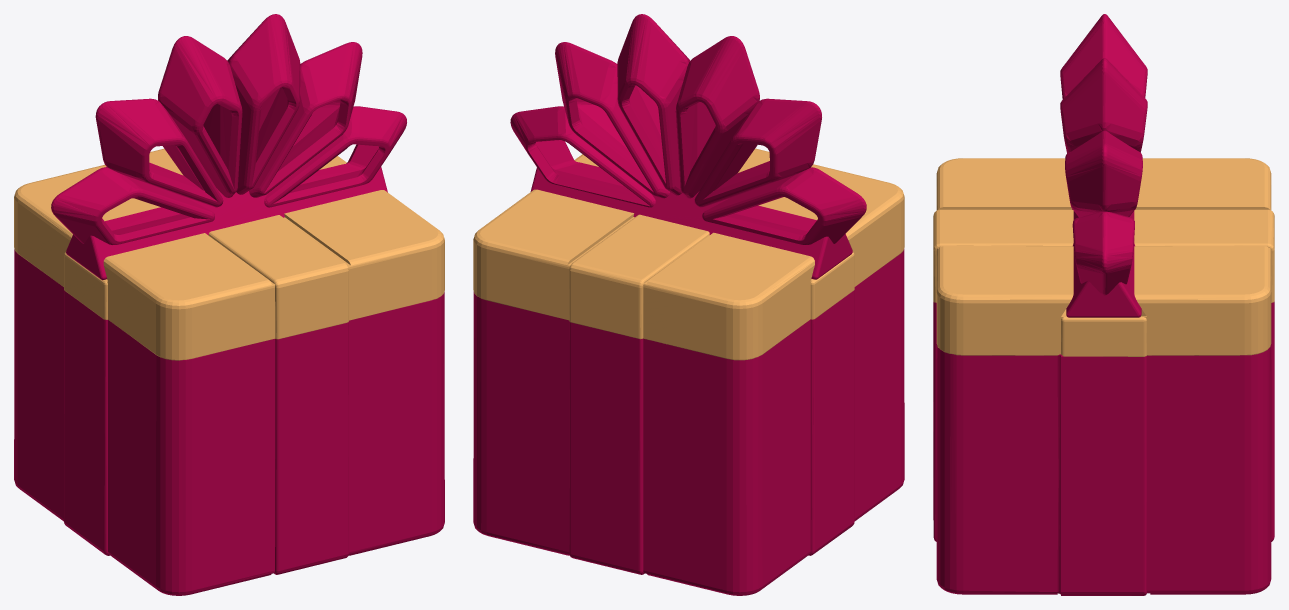
File: Red Gift.fbx
3 views of the same model, side by side, from view 1: azimuth 30°, elevation 25°; view 2: azimuth 150°, elevation 25°; view 3: azimuth 270°, elevation 25° (orthographic).
Visible parts, largest first — view 1: Base, Top, Cover; view 2: Base, Top, Cover; view 3: Base, Cover, Top.
Boxes of the visible parts, bbox=[...] form: Base: bbox=[14, 249, 444, 595]; Top: bbox=[51, 14, 406, 280]; Cover: bbox=[14, 148, 444, 360]; Base: bbox=[473, 249, 904, 595]; Top: bbox=[510, 14, 866, 279]; Cover: bbox=[473, 148, 904, 360]; Base: bbox=[933, 302, 1274, 595]; Cover: bbox=[933, 158, 1274, 356]; Top: bbox=[1060, 14, 1147, 317].
Bounding box in the file's own units: 623 × 806 × 510.
